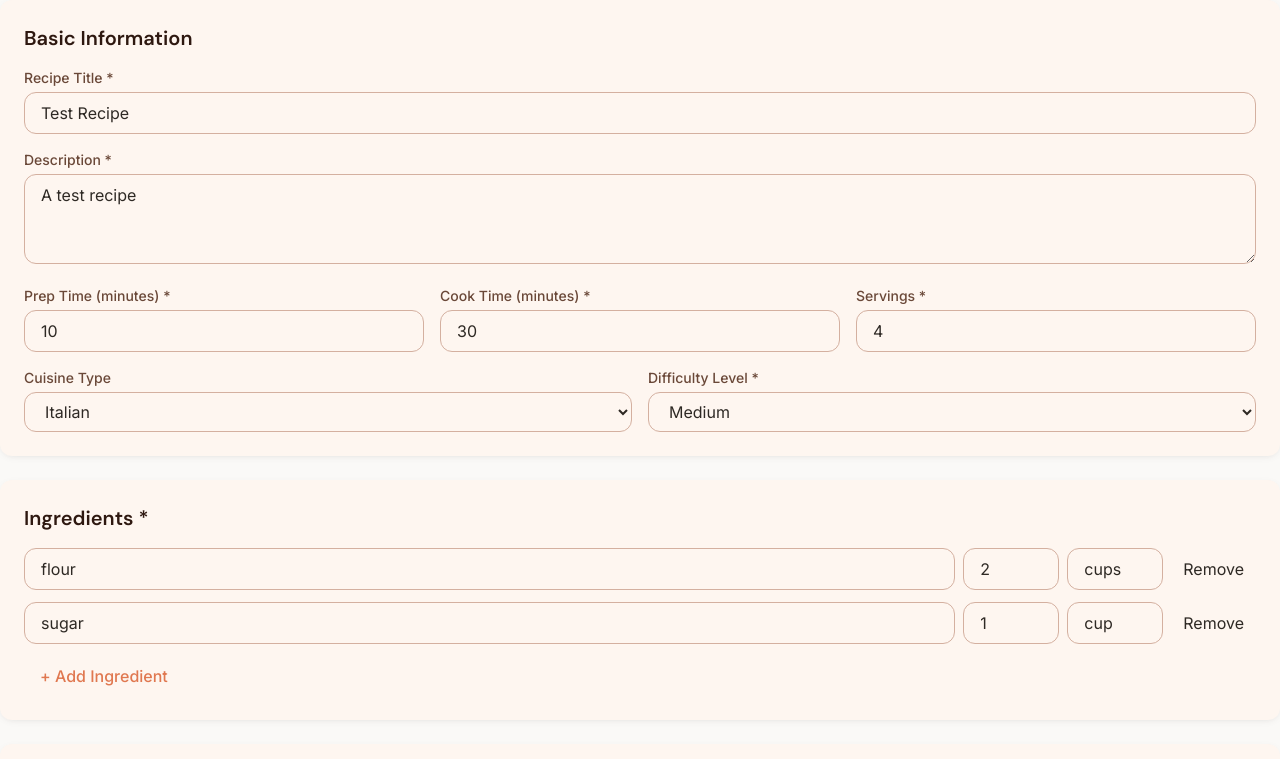
RecipeForm › Ingredients Management › should remove ingredient
Note: First remove button is for ingredients
Click the 1st button "Remove": click(1214, 569) [1171, 548, 1256, 590]
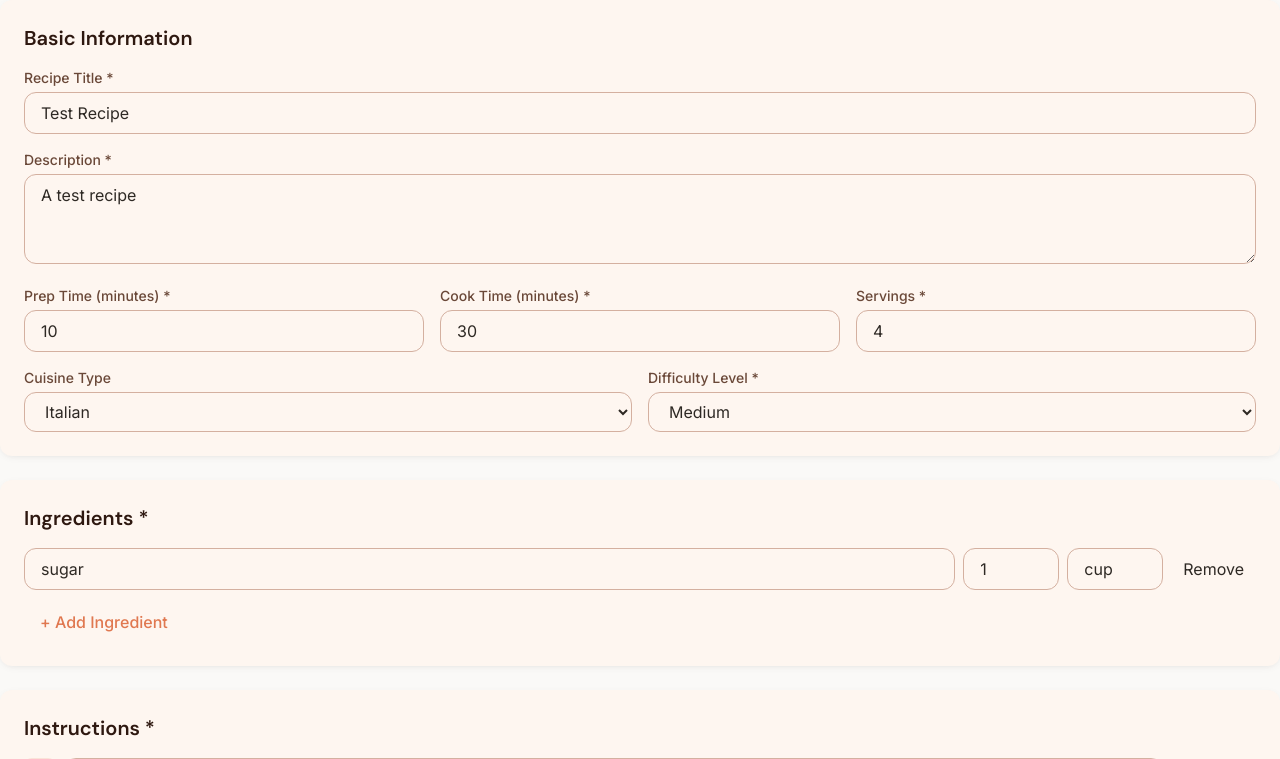
Now the number of fields with placeholder "Ingredient name" is 1, box [24, 548, 955, 590]
